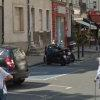Car: (43, 38, 77, 73)
